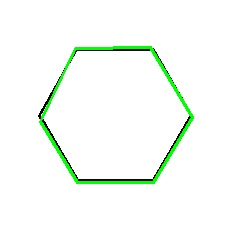line_segment: (38, 47, 193, 183)
